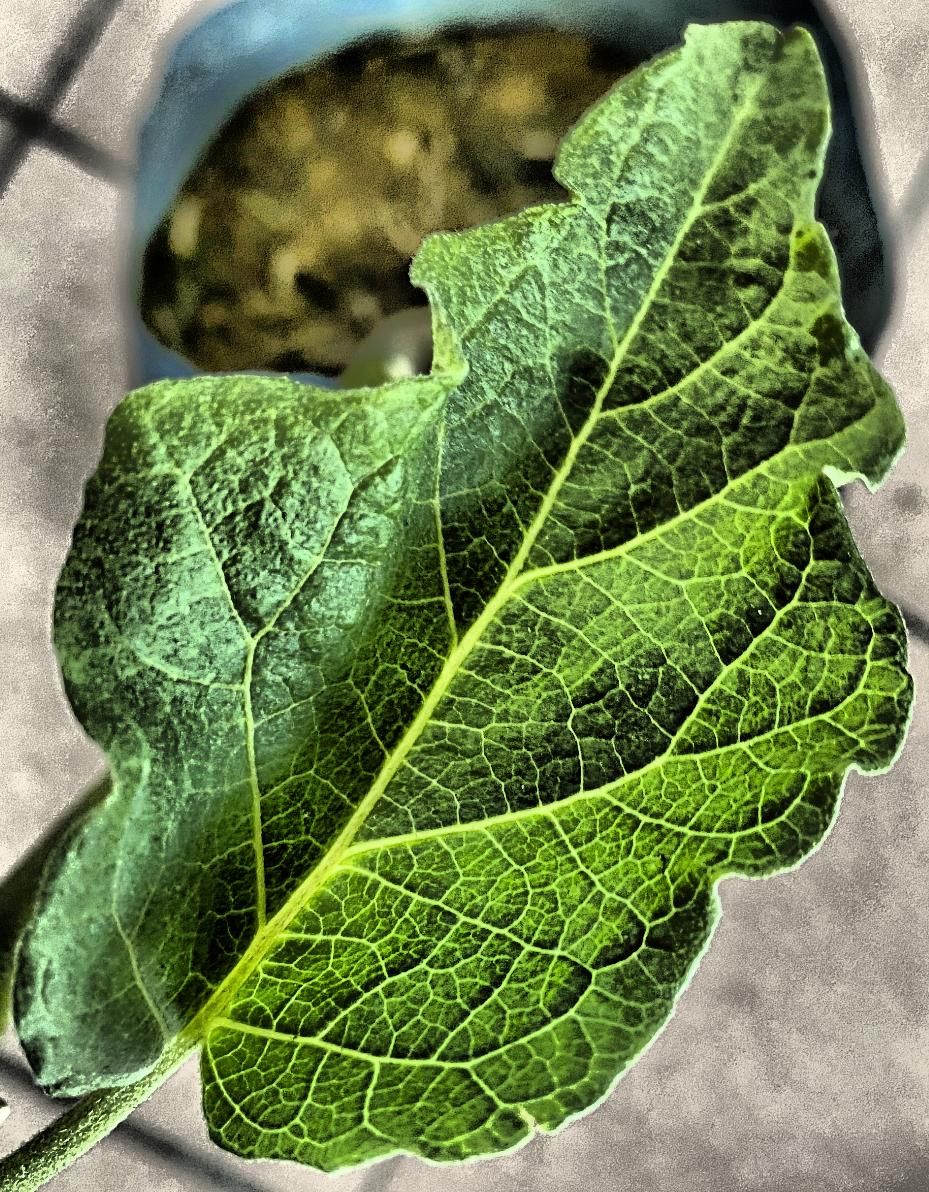HEALTHY: (0, 0, 929, 1191)
